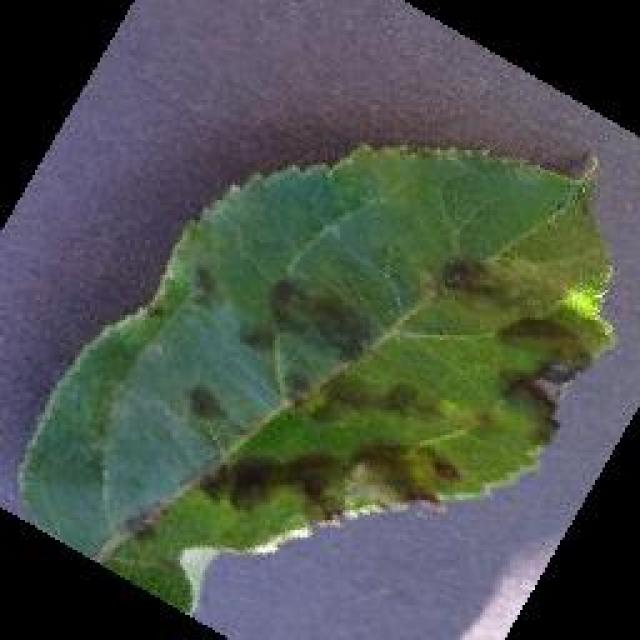apple scab disease: (15, 132, 620, 612)
